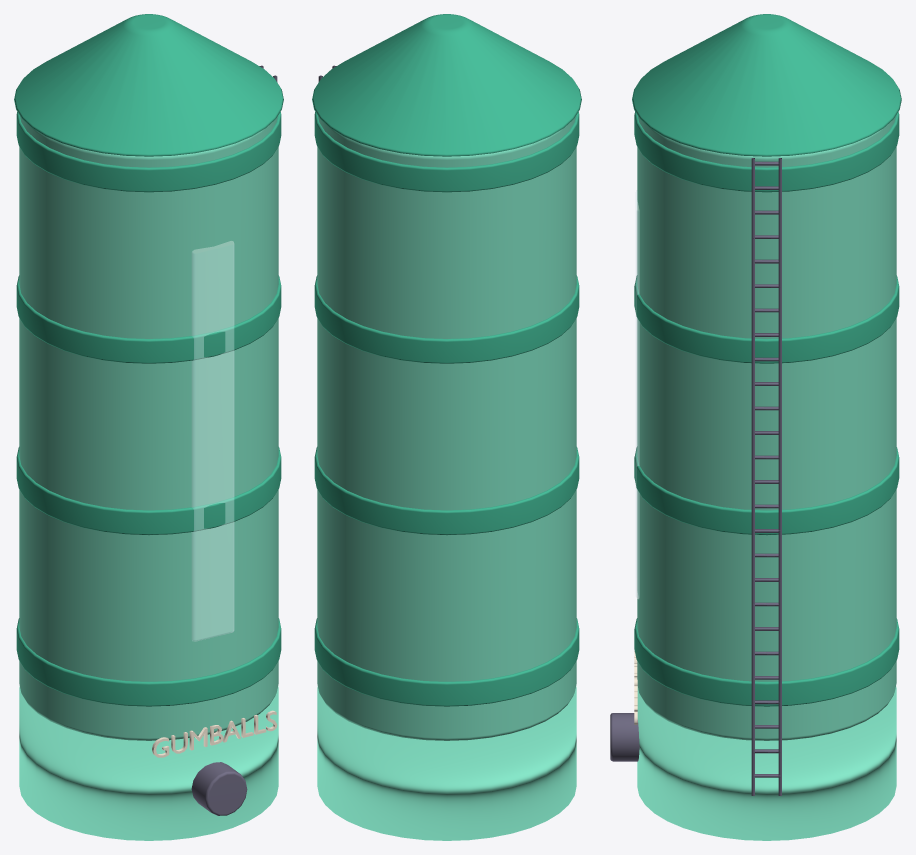
The model's file is candy_silo_b.glb.
3 views of the same model, side by side, from view 1: azimuth 30°, elevation 25°; view 2: azimuth 150°, elevation 25°; view 3: azimuth 270°, elevation 25° (orthographic).
Parts seen in each view (by area): view 1: Silo; view 2: Silo; view 3: Silo.
Boxes of the visible parts, bbox=[...] form: Silo: bbox=[14, 14, 283, 840]; Silo: bbox=[312, 14, 581, 840]; Silo: bbox=[610, 14, 901, 840].
Size of the model in its own units: 5.08 by 15.6 by 5.4.
